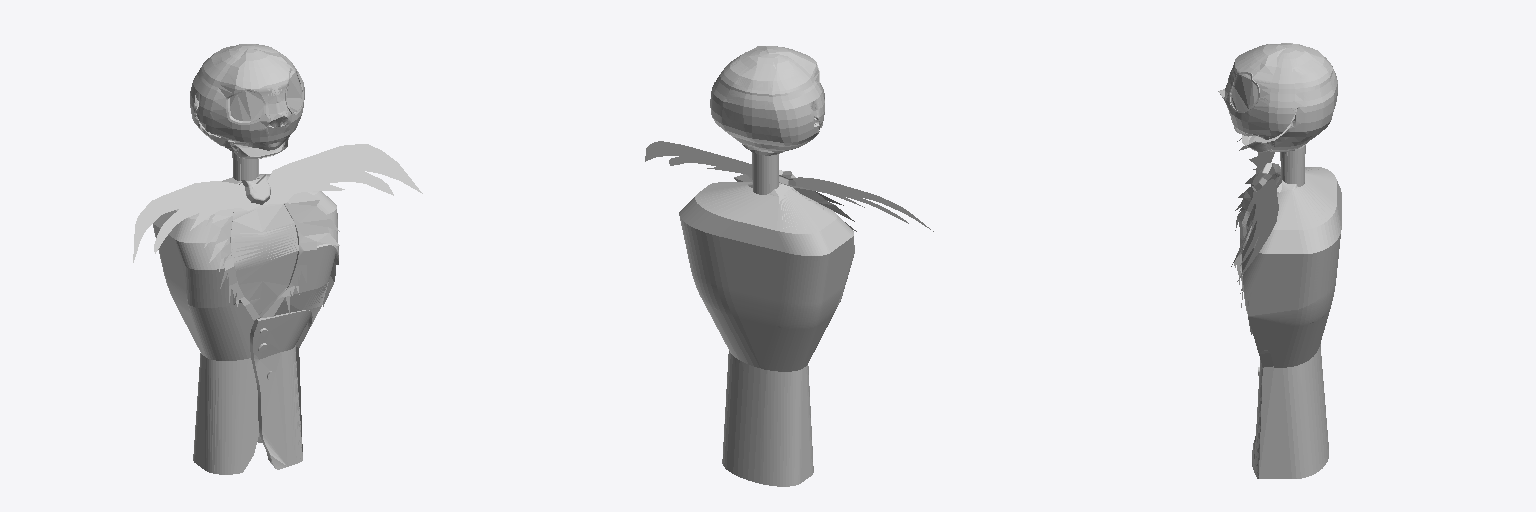
The model's file is torzoJack.obj.
The picture shows the model from 3 angles: view 1: azimuth 30°, elevation 25°; view 2: azimuth 150°, elevation 25°; view 3: azimuth 270°, elevation 25°; orthographic projection.
Visible parts, largest first — view 1: cabeza_Sphere; view 2: cabeza_Sphere; view 3: cabeza_Sphere.
Boxes of the visible parts, x1=… form: cabeza_Sphere: x1=133, y1=44, x2=422, y2=474; cabeza_Sphere: x1=645, y1=46, x2=933, y2=486; cabeza_Sphere: x1=1218, y1=43, x2=1341, y2=478.
Size of the model in its own units: 15.57 by 21.12 by 5.73.